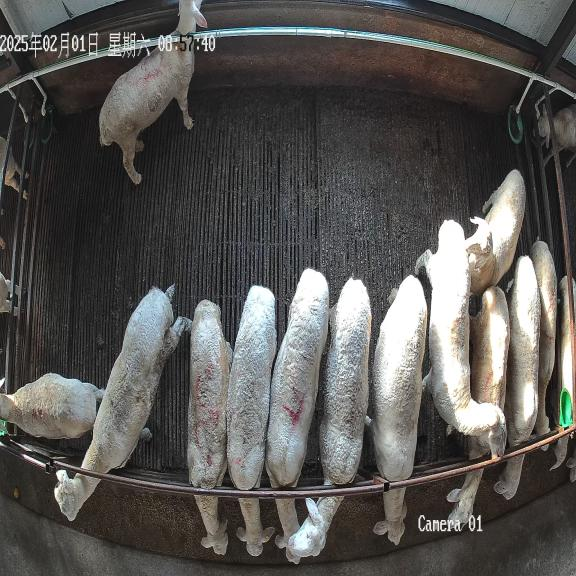eating: (99, 0, 207, 184), (265, 268, 329, 548), (367, 275, 427, 545), (447, 286, 510, 528), (226, 285, 277, 556), (187, 300, 233, 555), (494, 256, 541, 500)
stand: (54, 285, 192, 521), (286, 277, 371, 564), (414, 220, 506, 456), (4, 95, 35, 386), (466, 170, 525, 294), (0, 373, 105, 439), (531, 241, 557, 435)
